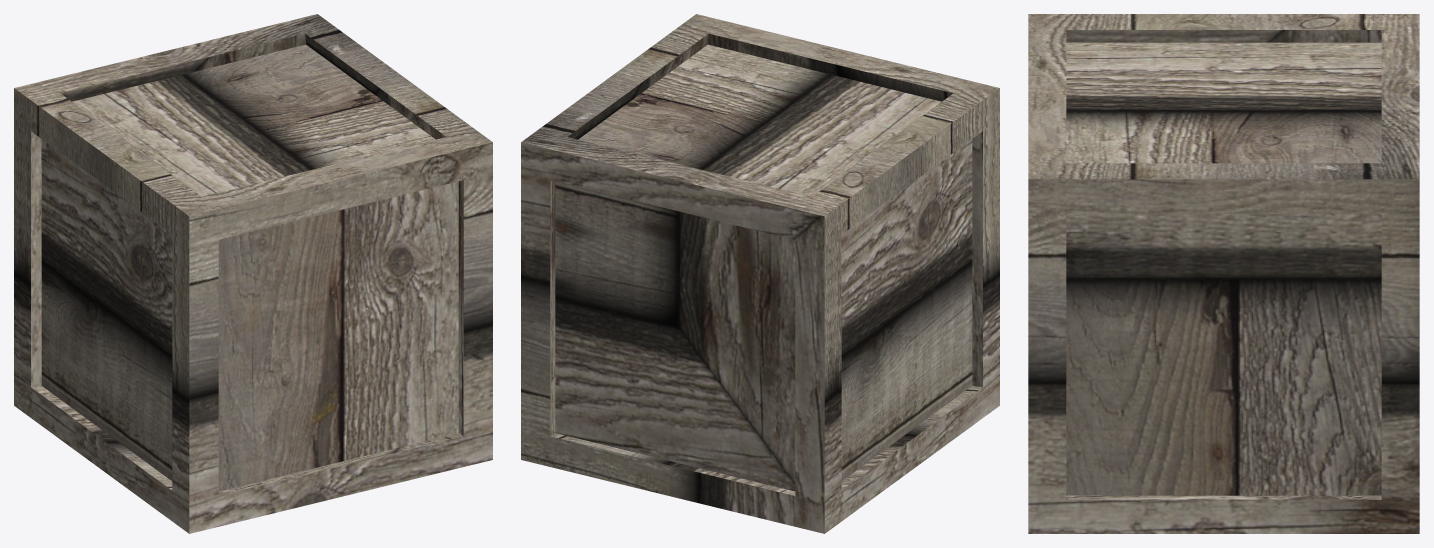
The model's file is Crate_LOD1.dae.
The picture shows the model from 3 angles, left to right: view 1: azimuth 30°, elevation 25°; view 2: azimuth 150°, elevation 25°; view 3: azimuth 270°, elevation 25°; orthographic projection. The views are drawn at different scales.
Visible parts, largest first — view 1: Crate_LOD2; view 2: Crate_LOD2; view 3: Crate_LOD2.
Part boxes in pixels (x1,y1,x2,y2): Crate_LOD2: (14, 14, 492, 533); Crate_LOD2: (521, 14, 999, 533); Crate_LOD2: (1028, 14, 1419, 533).
Bounding box in the file's own units: 0.599 × 0.599 × 0.599.
